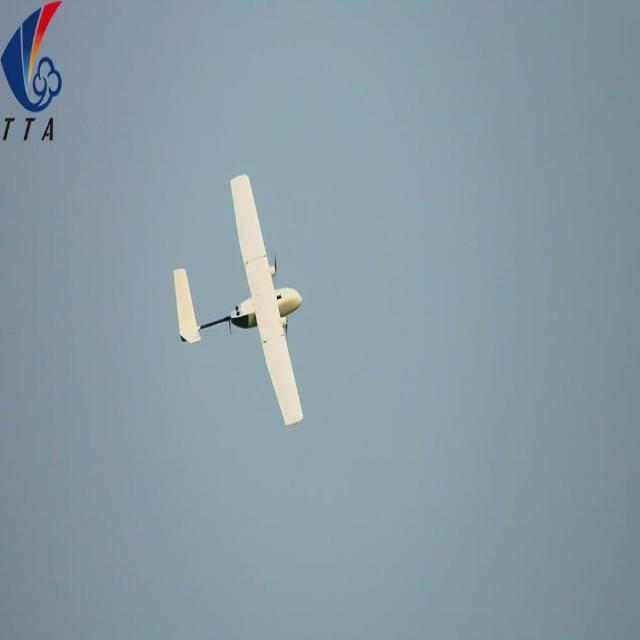iha: (172, 173, 317, 428)
